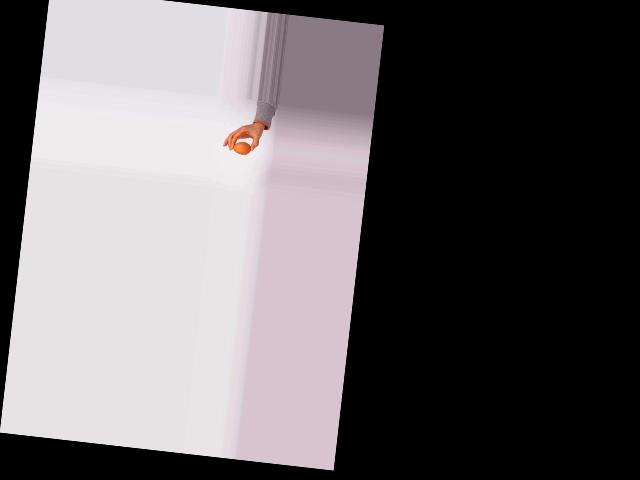egg: (232, 141, 251, 155)
